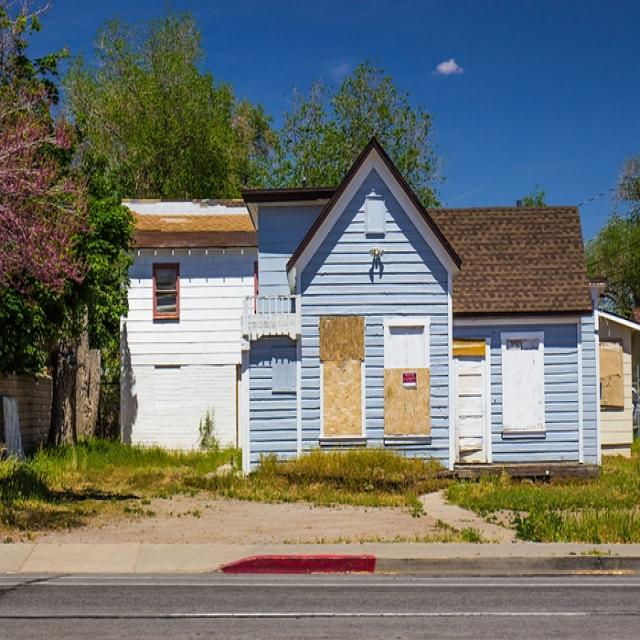House: (117, 135, 640, 483)
